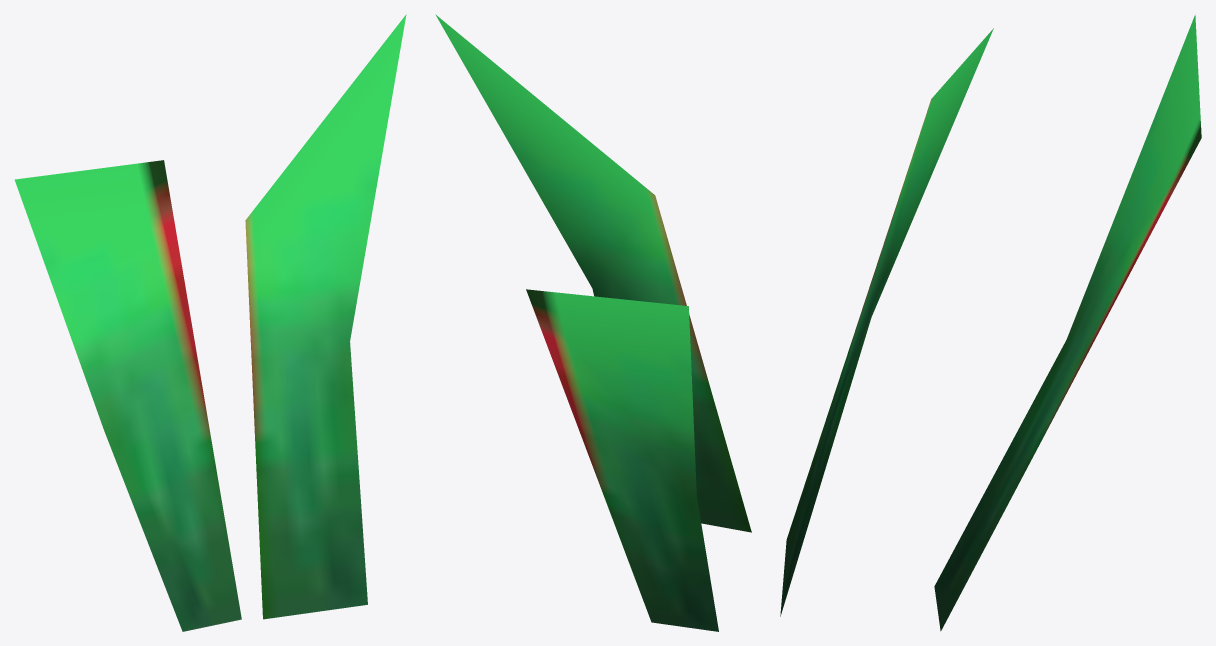
Rendered from fg_grassC.dae.
3 renders of one model, left to right at view 1: azimuth 30°, elevation 25°; view 2: azimuth 150°, elevation 25°; view 3: azimuth 270°, elevation 25°, orthographic. The views are drawn at different scales.
Visible parts, largest first — view 1: fg_grassC; view 2: fg_grassC; view 3: fg_grassC.
Part boxes in pixels (x1,y1,x2,y2): fg_grassC: (14, 14, 406, 631); fg_grassC: (435, 14, 751, 631); fg_grassC: (780, 15, 1201, 631).
Size of the model in its own units: 14.53 by 23.97 by 12.64.
1 material, 1 textured.
